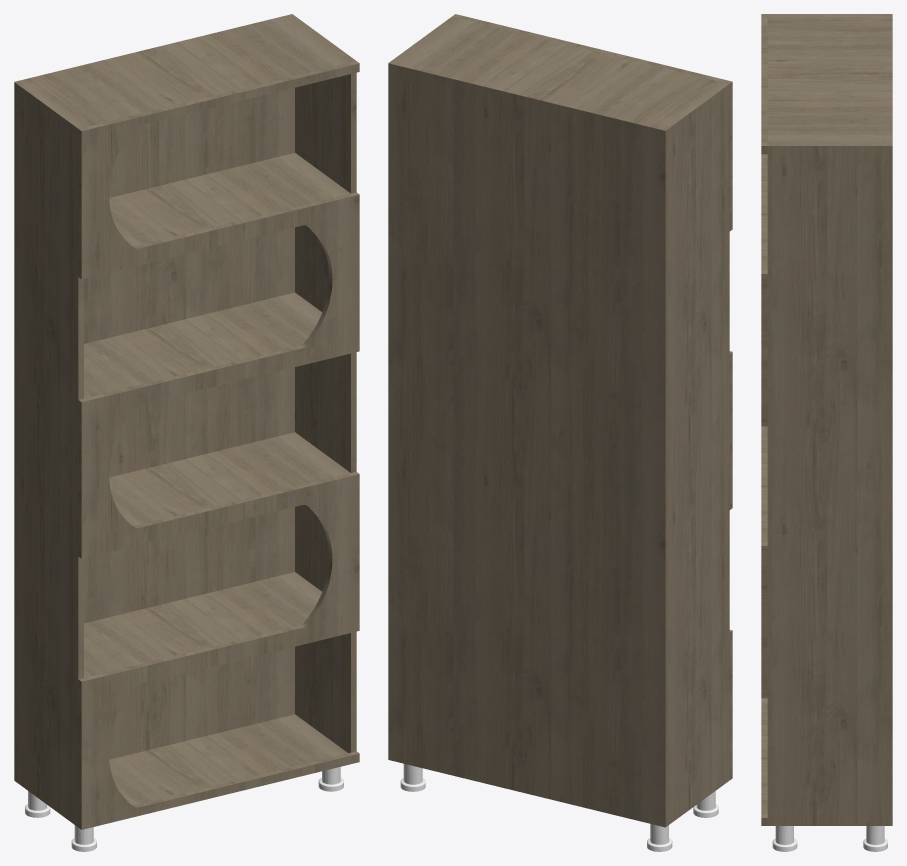
3 views of the same model, side by side, from view 1: azimuth 30°, elevation 25°; view 2: azimuth 150°, elevation 25°; view 3: azimuth 270°, elevation 25° (orthographic). The views are drawn at different scales.
Parts seen in each view (by area): view 1: Box001, Box044, Box050, Box052, Box049, Box051; view 2: Box001, Box044; view 3: Box001, Box044, Cylinder005, Cylinder004.
Boxes of the visible parts, x1=… form: Box001: x1=14, y1=14, x2=356, y2=826; Box044: x1=78, y1=61, x2=359, y2=829; Box050: x1=84, y1=292, x2=322, y2=398; Box052: x1=84, y1=572, x2=321, y2=677; Box049: x1=109, y1=153, x2=350, y2=246; Box051: x1=109, y1=432, x2=350, y2=525; Box001: x1=388, y1=16, x2=729, y2=827; Box044: x1=453, y1=14, x2=732, y2=779; Box001: x1=767, y1=14, x2=892, y2=825; Box044: x1=761, y1=14, x2=767, y2=825; Cylinder005: x1=772, y1=826, x2=797, y2=851; Cylinder004: x1=863, y1=826, x2=887, y2=851.
Size of the model in its own units: 1 by 2.5 by 0.4201.
Materials: 2 (1 with a texture image).
